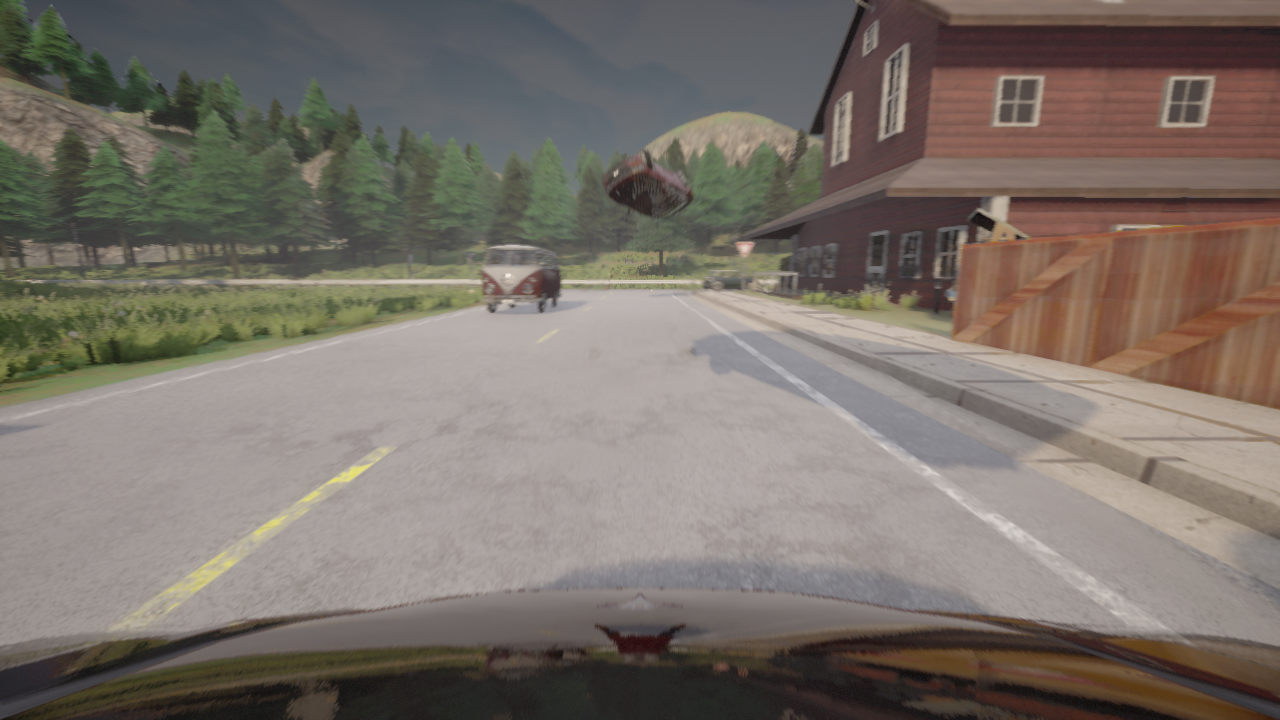cyclist: (0, 588, 1279, 719), (601, 149, 694, 219), (477, 244, 561, 313), (702, 270, 760, 290)
